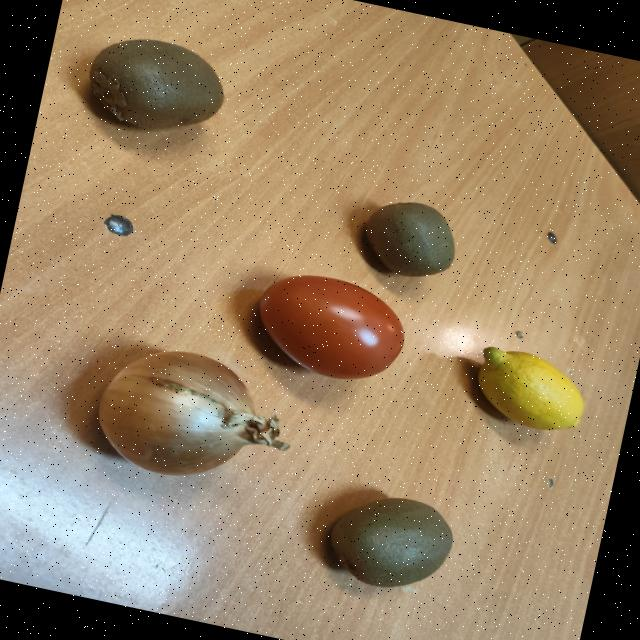kiwi: (329, 497, 451, 587), (364, 202, 453, 277)
lemon: (476, 346, 583, 430)
tomato: (258, 274, 403, 379)
